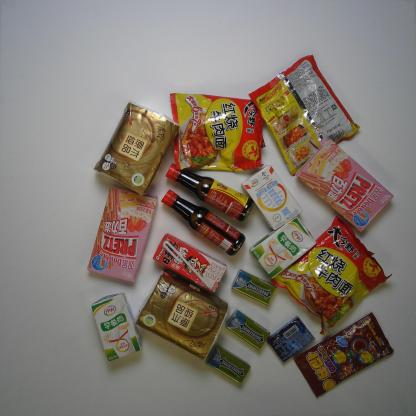Candy: (295, 310, 396, 406)
Dessert: (297, 141, 396, 232), (86, 191, 164, 284)
Gum: (198, 336, 254, 388), (224, 308, 272, 353), (266, 317, 310, 361), (230, 268, 278, 306)
Instant Noodles: (272, 220, 391, 337), (249, 55, 358, 172), (168, 87, 266, 174)
Milk: (152, 234, 226, 294), (243, 165, 303, 229), (254, 215, 314, 277), (92, 294, 140, 363)
Seasoner: (159, 187, 245, 256), (164, 162, 251, 223)
Tissue: (94, 100, 178, 198), (136, 275, 228, 358)
